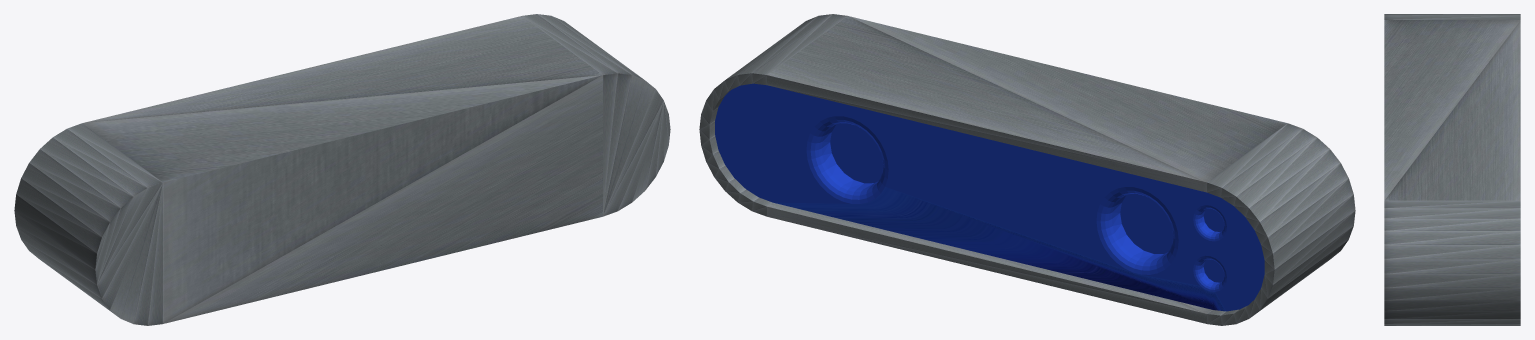
The model's file is structure camera texture.dae.
3 renders of one model, left to right at view 1: azimuth 30°, elevation 25°; view 2: azimuth 150°, elevation 25°; view 3: azimuth 270°, elevation 25°, orthographic. The views are drawn at different scales.
Parts seen in each view (by area): view 1: Structure_Camera_-_face_structure-1-1_002; view 2: Structure_Camera_-_face_structure-1-1_002, Structure_Camera_-_face_structure-1-1; view 3: Structure_Camera_-_face_structure-1-1_002.
Boxes of the visible parts, box(x1,y1,x2,y2) form: Structure_Camera_-_face_structure-1-1_002: box(14, 14, 670, 325); Structure_Camera_-_face_structure-1-1_002: box(699, 14, 1355, 325); Structure_Camera_-_face_structure-1-1: box(715, 83, 1264, 311); Structure_Camera_-_face_structure-1-1_002: box(1384, 14, 1520, 325).
Size of the model in its own units: 0.119 by 0.029 by 0.028.
2 materials, 2 textured.
